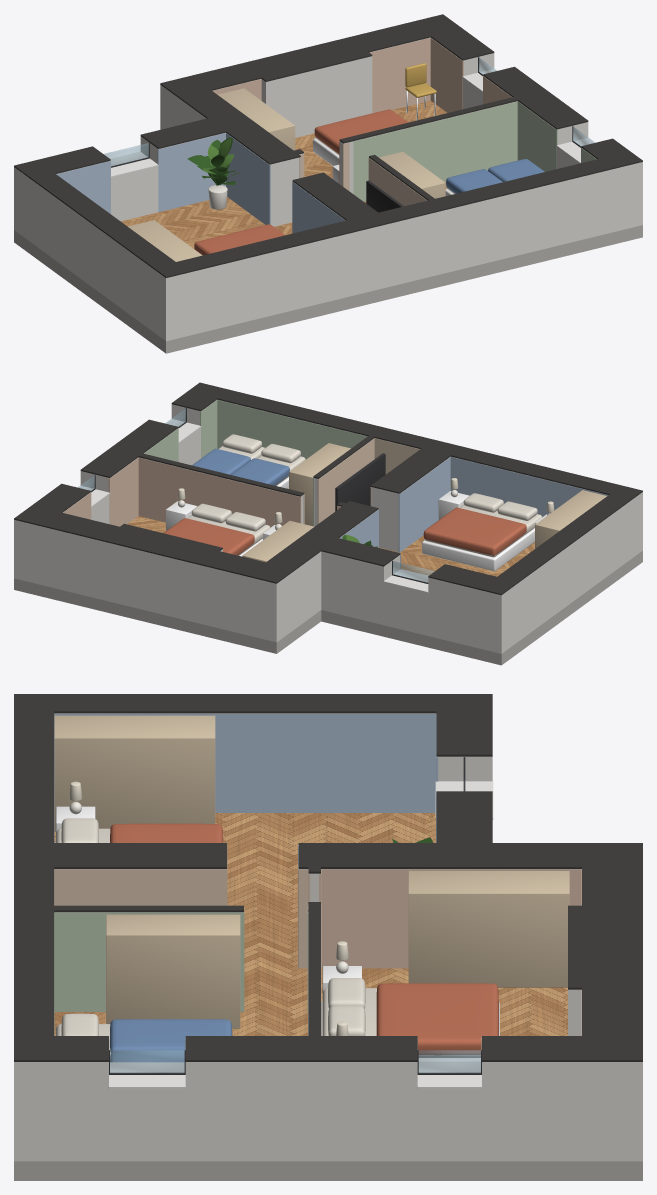
3 views of the same model, one above another, from view 1: azimuth 30°, elevation 25°; view 2: azimuth 150°, elevation 25°; view 3: azimuth 270°, elevation 25° (orthographic). The views are drawn at different scales.
Parts seen in each view (by area): view 1: walls, caps, floor, paint.002, paint, paint.001, sill, arr_Cube.035, arr_Cube.030, paint.003, arr_Cube.026, arr_Cube.021 (+6 smaller); view 2: walls, caps, floor, paint.001, paint, paint.002, arr_Cube.021, paint.003, sill, arr_Cube.030, arr_Cube.018, arr_Cube.038 (+19 smaller); view 3: caps, walls, floor, paint, arr_Cube.035, arr_Cube.026, arr_Cube.038, paint.001, arr_Cube.030, paint.003, paint.002, sill.002 (+14 smaller).
Boxes of the visible parts, x1=… form: walls: x1=14, y1=37, x2=642, y2=341; caps: x1=14, y1=14, x2=642, y2=277; floor: x1=14, y1=100, x2=642, y2=353; paint.002: x1=353, y1=101, x2=596, y2=201; paint: x1=56, y1=133, x2=345, y2=233; paint.001: x1=213, y1=37, x2=511, y2=183; sill: x1=111, y1=166, x2=158, y2=221; arr_Cube.035: x1=218, y1=88, x2=295, y2=150; arr_Cube.030: x1=314, y1=109, x2=408, y2=153; paint.003: x1=299, y1=142, x2=426, y2=206; arr_Cube.026: x1=128, y1=220, x2=202, y2=261; arr_Cube.021: x1=194, y1=224, x2=284, y2=255; walls: x1=14, y1=399, x2=642, y2=653; caps: x1=14, y1=382, x2=642, y2=595; floor: x1=14, y1=516, x2=642, y2=665; paint.001: x1=63, y1=457, x2=340, y2=527; paint: x1=339, y1=457, x2=608, y2=569; paint.002: x1=144, y1=400, x2=367, y2=526; arr_Cube.021: x1=423, y1=507, x2=526, y2=555; paint.003: x1=303, y1=438, x2=419, y2=524; sill: x1=384, y1=582, x2=428, y2=635; arr_Cube.030: x1=163, y1=518, x2=254, y2=555; arr_Cube.018: x1=422, y1=528, x2=534, y2=571; arr_Cube.038: x1=289, y1=443, x2=350, y2=526; caps: x1=14, y1=694, x2=642, y2=1061; walls: x1=14, y1=713, x2=642, y2=1161; floor: x1=14, y1=813, x2=642, y2=1180; paint: x1=54, y1=714, x2=438, y2=868; arr_Cube.035: x1=408, y1=871, x2=569, y2=987; arr_Cube.026: x1=54, y1=715, x2=215, y2=831; arr_Cube.038: x1=106, y1=914, x2=240, y2=1028; paint.001: x1=319, y1=869, x2=581, y2=1049; arr_Cube.030: x1=376, y1=983, x2=498, y2=1055; paint.003: x1=54, y1=868, x2=310, y2=968; paint.002: x1=54, y1=912, x2=308, y2=1049; sill.002: x1=109, y1=1088, x2=185, y2=1161.
Bounding box in the file's own units: 9.69 × 1.49 × 7.03.
24 materials, 1 textured.
